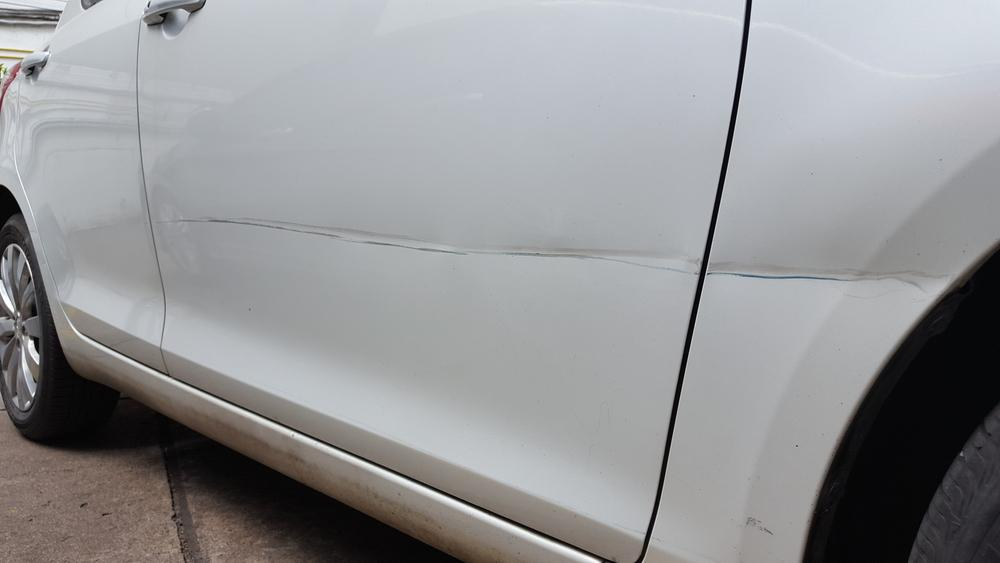scratch: (168, 213, 704, 276), (705, 259, 954, 297)
